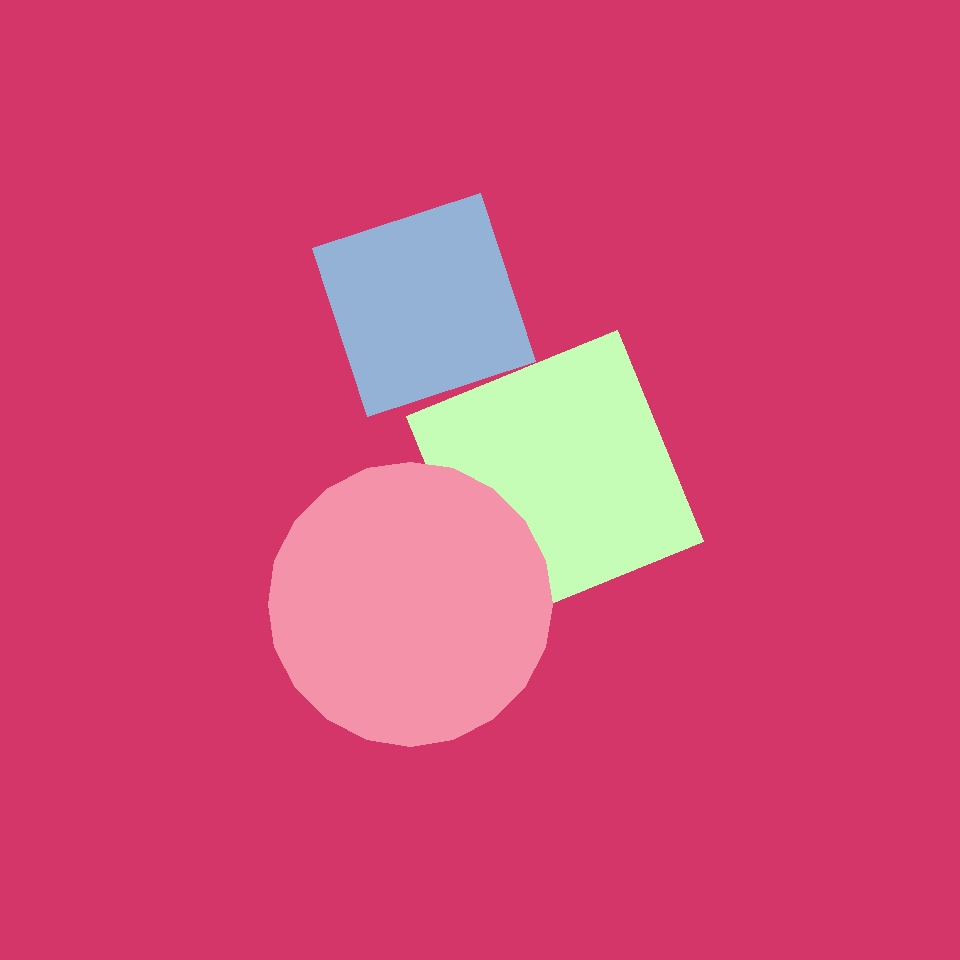circle: (281, 588, 387, 683), (818, 29, 910, 113)
square: (406, 330, 704, 628), (312, 193, 536, 416)
triangle: (268, 462, 552, 746), (719, 218, 878, 377)
